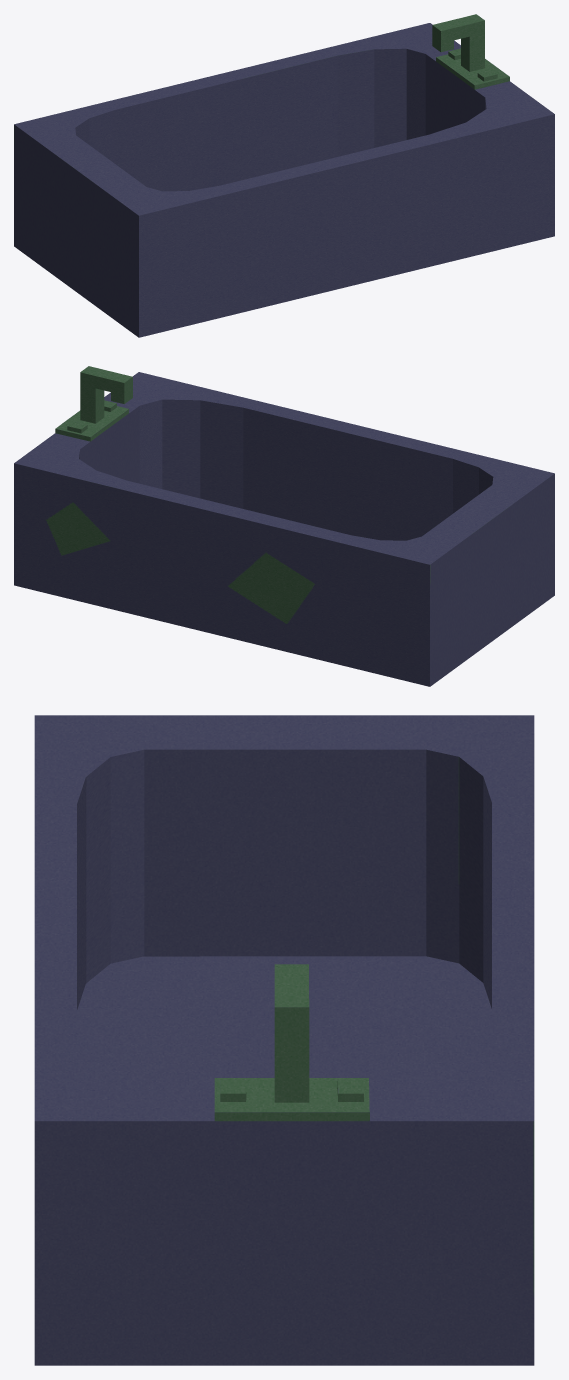
Rendered from HDBath.fbx.
3 views of the same model, one above another, from view 1: azimuth 30°, elevation 25°; view 2: azimuth 150°, elevation 25°; view 3: azimuth 270°, elevation 25° (orthographic). The views are drawn at different scales.
Parts seen in each view (by area): view 1: HallowDarkBathtub; view 2: HallowDarkBathtub; view 3: HallowDarkBathtub.
Part boxes in pixels (left/top/right/bottom): HallowDarkBathtub: left=14, top=14, right=554, bottom=337; HallowDarkBathtub: left=14, top=366, right=554, bottom=686; HallowDarkBathtub: left=34, top=715, right=534, bottom=1365.
Size of the model in its own units: 147 by 58.88 by 76.49.
